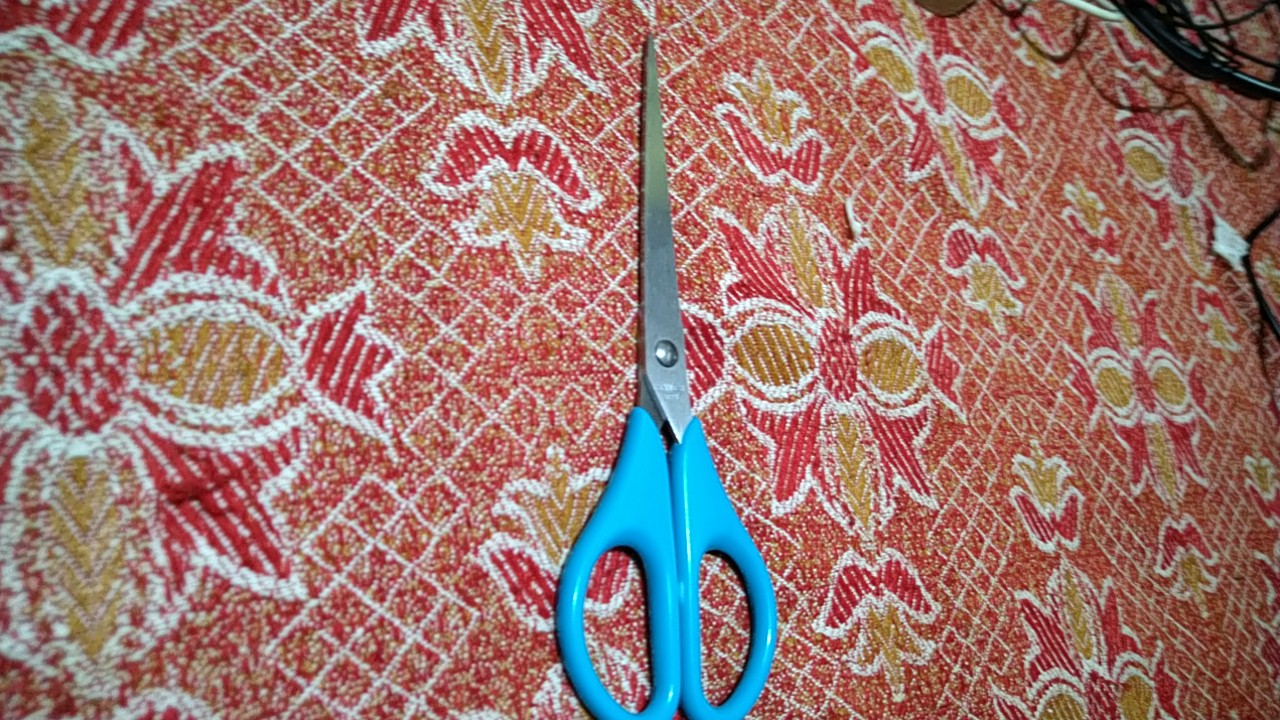scissor: (538, 20, 799, 720)
